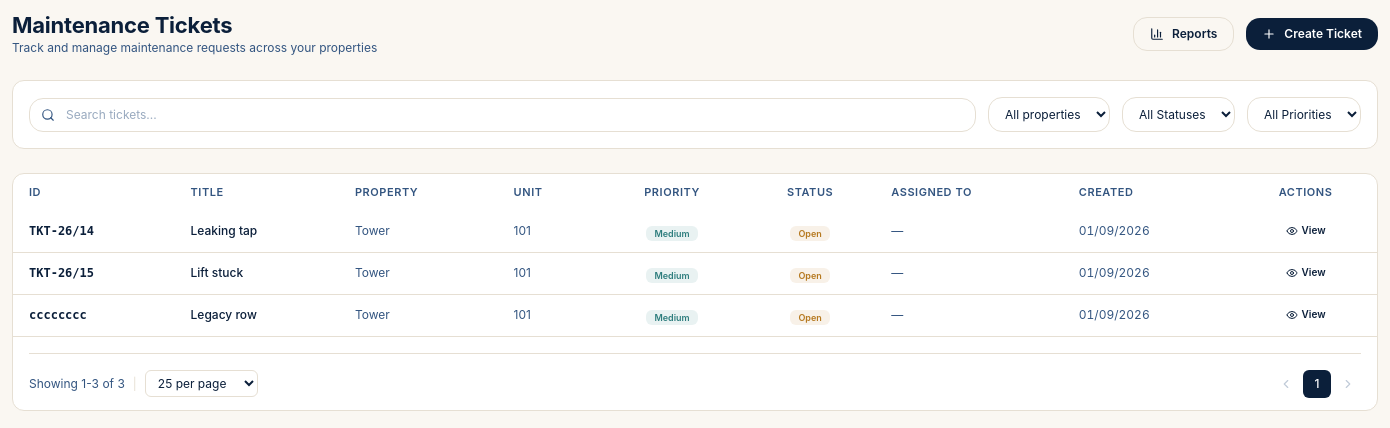
Test: Tickets list — reference › finds a ticket by its reference
Expected: the text "TKT-26/14" is shown, [29,224,94,238]
Type "26/15" into the field with placeholder "Search tickets..." at [502, 115], box [29,98,976,132]
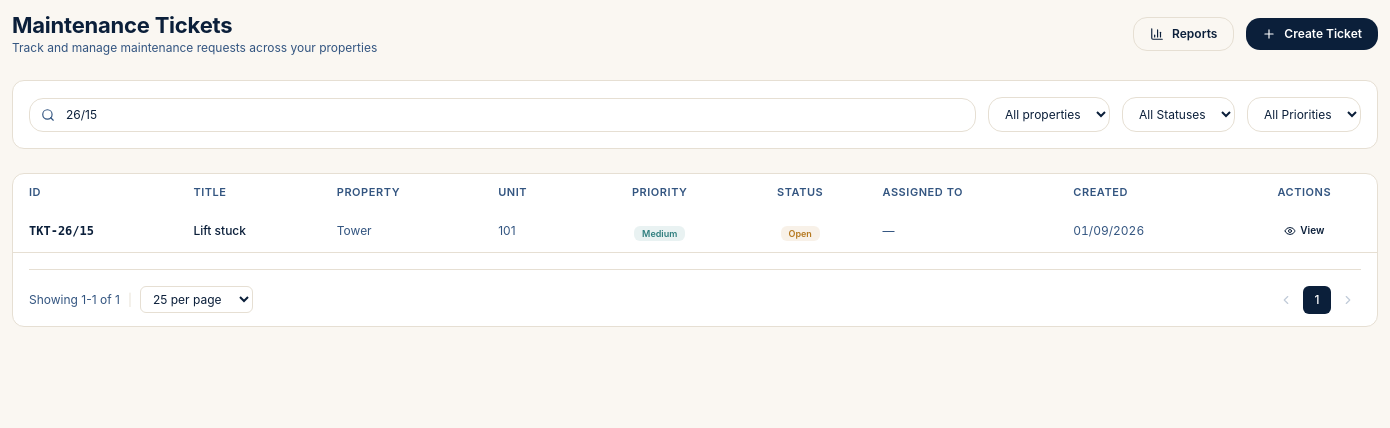
Expected: the text "Lift stuck" is shown, [193,223,246,238]
Now the text "Leaking tap" is gone
